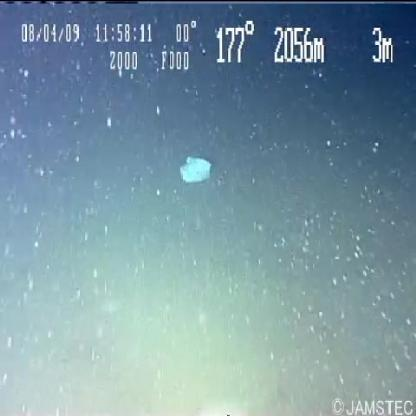Rác: (166, 147, 226, 188)
